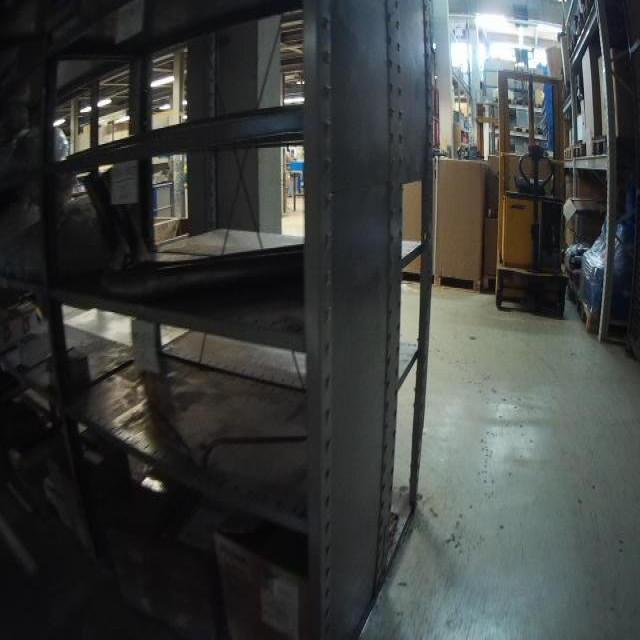pallet: (578, 296, 632, 340), (400, 269, 481, 293), (591, 135, 608, 156), (572, 140, 584, 159), (516, 126, 533, 135)
pallet_truck: (498, 68, 568, 322)
